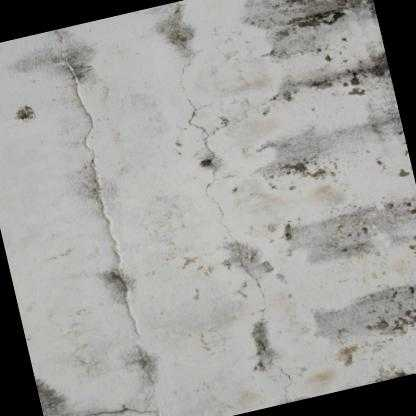crack: (179, 93, 297, 404), (48, 28, 142, 338), (70, 404, 157, 416)
